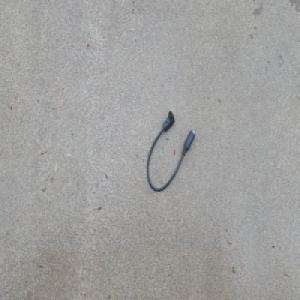Wire: (145, 109, 196, 194)
